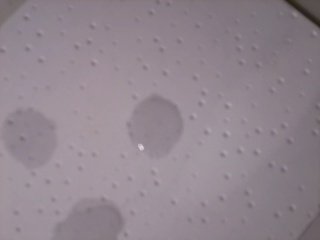Water_detected: (126, 99, 180, 151), (61, 199, 114, 240), (13, 114, 55, 163)
